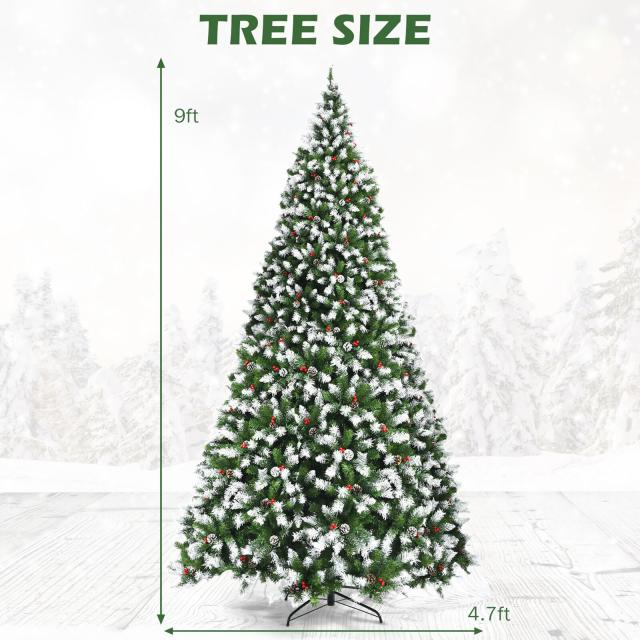Christmas-tree: (178, 74, 474, 582)
